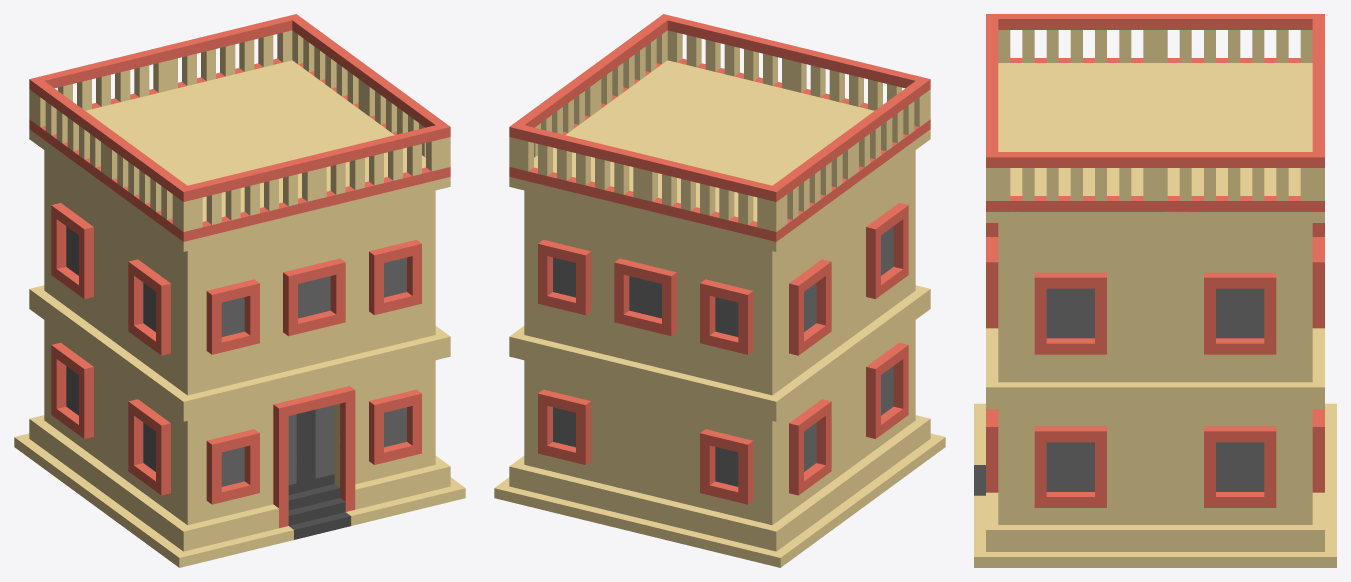
The model's file is Building_0.fbx.
3 views of the same model, side by side, from view 1: azimuth 30°, elevation 25°; view 2: azimuth 150°, elevation 25°; view 3: azimuth 270°, elevation 25° (orthographic). The views are drawn at different scales.
Parts seen in each view (by area): view 1: Building_0; view 2: Building_0; view 3: Building_0.
Boxes of the visible parts, left/top/right/bottom form: Building_0: left=14, top=14, right=465, bottom=567; Building_0: left=494, top=14, right=945, bottom=567; Building_0: left=974, top=14, right=1336, bottom=567.
Size of the model in its own units: 30 by 37 by 30.
1 material, 1 textured.
